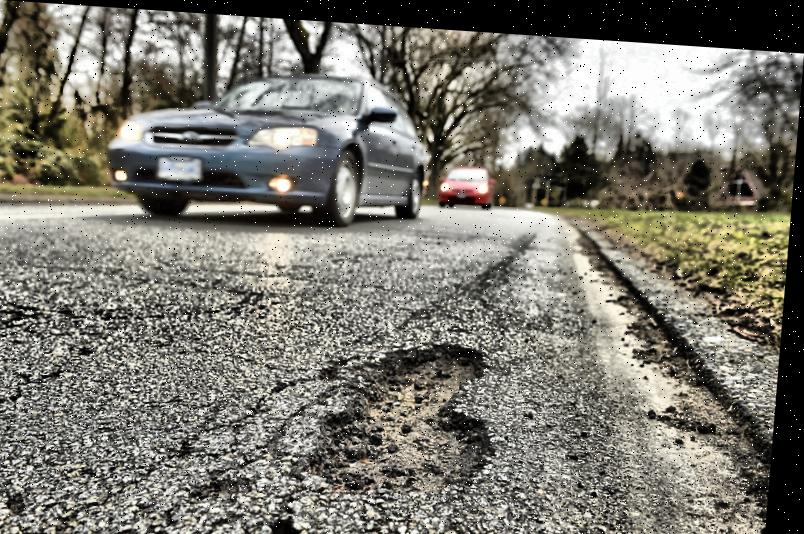pothole: (313, 329, 506, 504)
